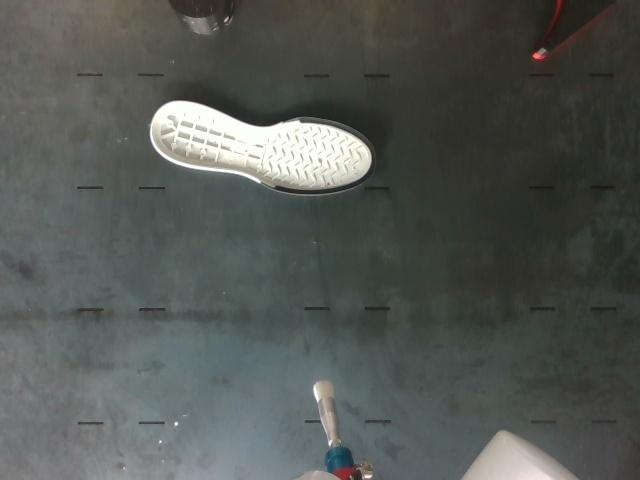shoes: (151, 102, 376, 195)
